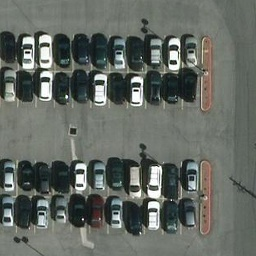car: (33, 31, 51, 65), (18, 34, 36, 67), (53, 30, 69, 67), (72, 30, 88, 67), (92, 31, 108, 68), (110, 31, 126, 68), (128, 31, 144, 68), (148, 31, 164, 68), (165, 32, 181, 69), (182, 30, 198, 67), (126, 71, 142, 108), (182, 69, 198, 106), (17, 160, 33, 197), (16, 196, 32, 233), (35, 197, 51, 234), (35, 156, 51, 193), (55, 157, 71, 194), (54, 200, 70, 237), (71, 196, 87, 233), (72, 159, 88, 196), (91, 199, 107, 236), (89, 158, 105, 195), (108, 158, 124, 195), (107, 200, 123, 237), (125, 201, 141, 238), (127, 163, 143, 200), (146, 162, 162, 199), (144, 204, 160, 241), (163, 202, 179, 239), (162, 158, 178, 195), (183, 160, 199, 197), (183, 201, 199, 238), (1, 34, 18, 67), (1, 69, 16, 106), (18, 67, 33, 104), (37, 68, 52, 105), (54, 67, 69, 104), (73, 69, 88, 106), (92, 70, 107, 107), (110, 71, 125, 108), (148, 72, 163, 109), (163, 69, 178, 106), (1, 165, 15, 190), (1, 200, 15, 225)
